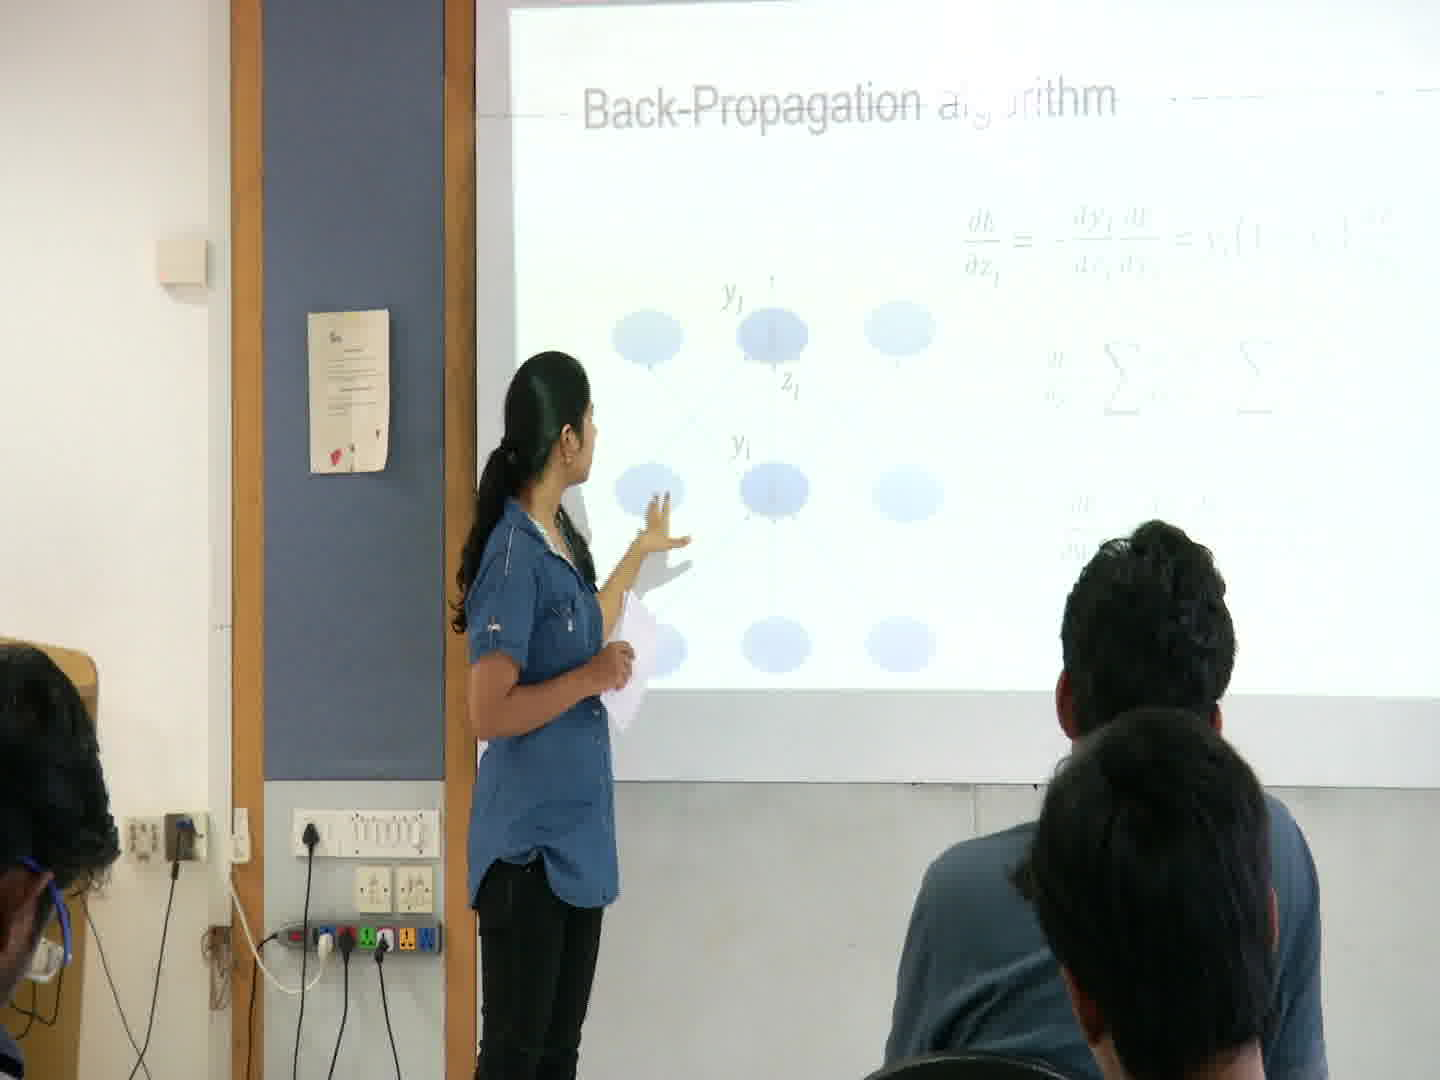eq: (1026, 321, 1359, 442), (960, 201, 1395, 288)
fig: (602, 279, 948, 681)
